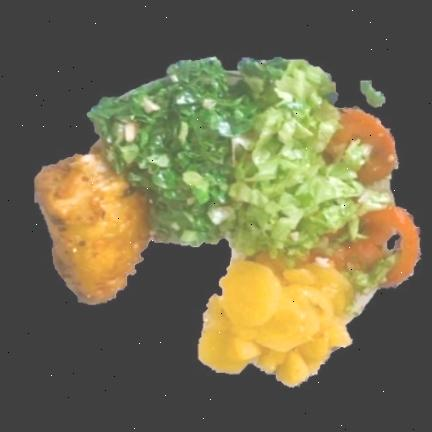cassava: (200, 264, 355, 385)
chicken: (33, 150, 148, 302)
salad: (89, 56, 368, 264)
tomato: (329, 203, 420, 290), (321, 106, 395, 184)
